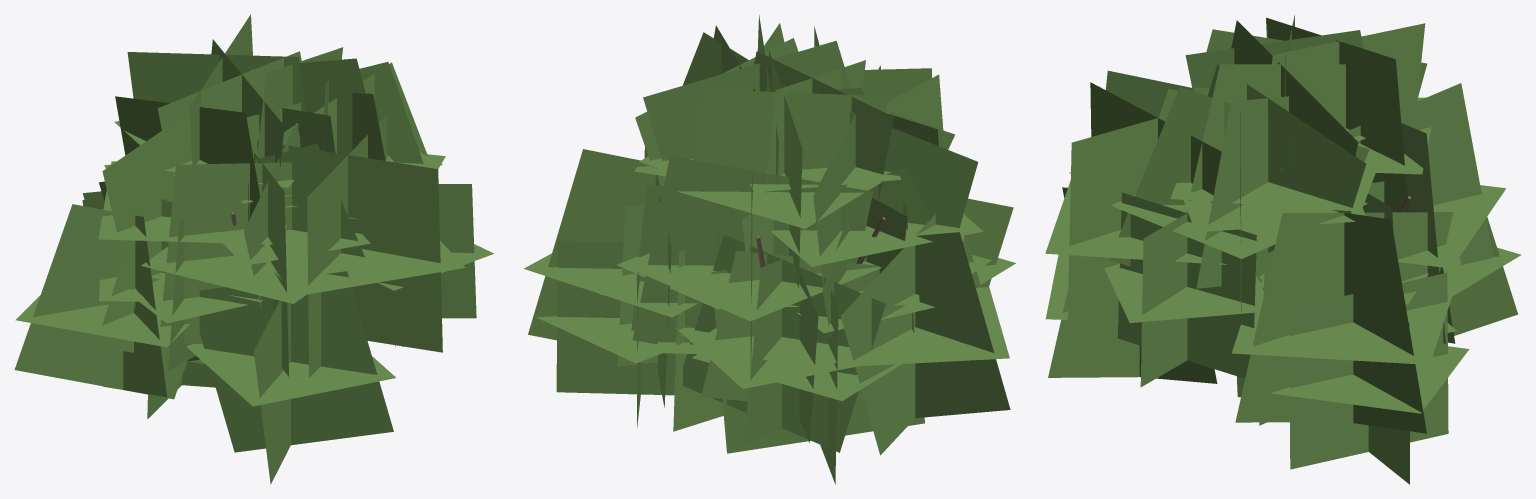
The model's file is SM_Bush.fbx.
3 views of the same model, side by side, from view 1: azimuth 30°, elevation 25°; view 2: azimuth 150°, elevation 25°; view 3: azimuth 270°, elevation 25° (orthographic). The views are drawn at different scales.
Visible parts, largest first — view 1: SM_Bush; view 2: SM_Bush; view 3: SM_Bush.
Part boxes in pixels (x1,y1,x2,y2): SM_Bush: (14, 14, 493, 484); SM_Bush: (524, 15, 1015, 484); SM_Bush: (1045, 15, 1521, 484).
Bounding box in the file's own units: 2.11 × 2.38 × 1.88.
